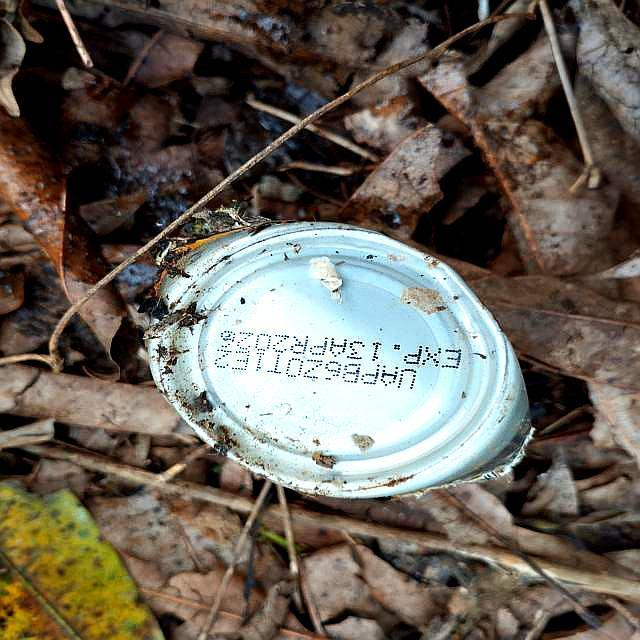Non-biodegradable: (145, 221, 539, 505)
